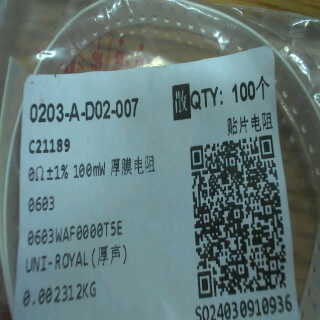0R: (23, 158, 112, 217)
